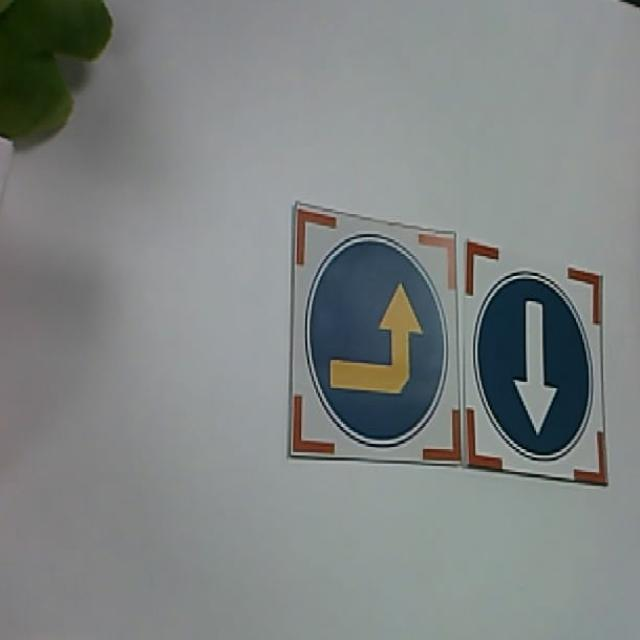straight: (469, 242, 606, 491)
turn: (288, 202, 460, 463)
